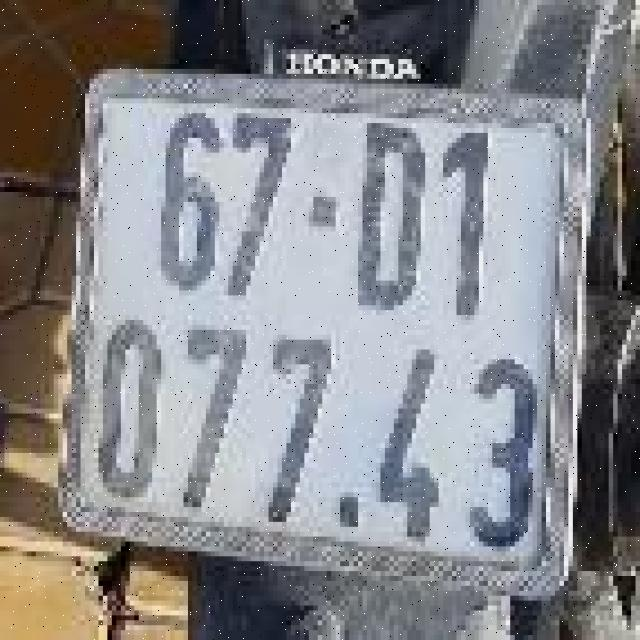0: (92, 310, 163, 517)
1: (436, 125, 499, 318)
3: (459, 357, 548, 544)
4: (367, 323, 452, 539)
6: (152, 106, 219, 303)
7: (257, 323, 338, 534), (174, 318, 250, 520), (230, 106, 298, 308)
D: (347, 115, 436, 322)
